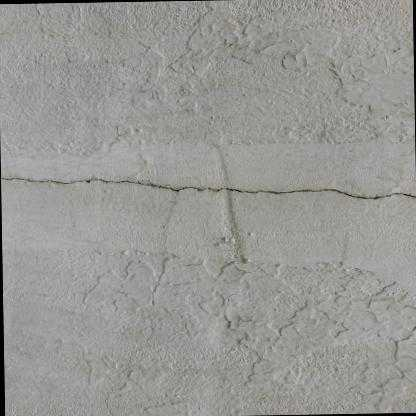crack: (0, 177, 416, 198)
